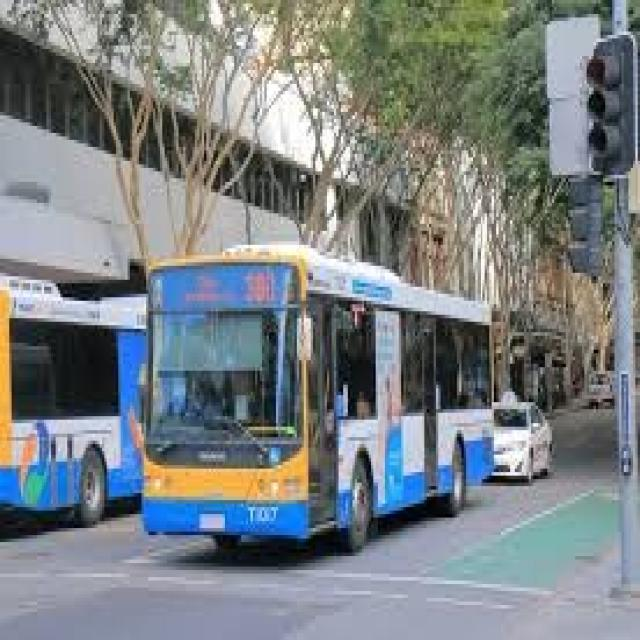bus: (144, 210, 508, 549), (0, 258, 146, 538)
